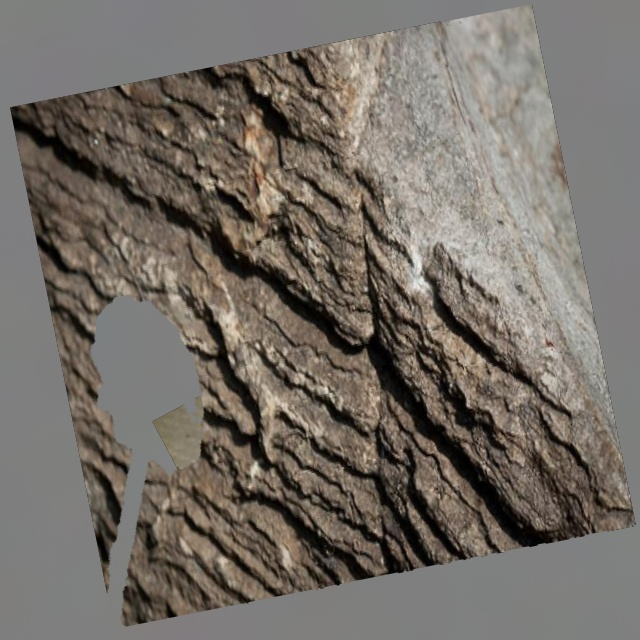daisy: (10, 4, 635, 626)
passion flower: (153, 385, 359, 594)
rose: (259, 254, 442, 400)
